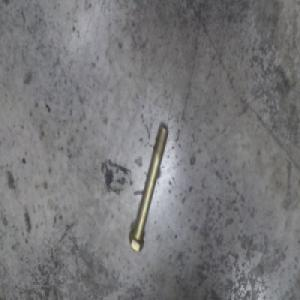Bolt: (127, 111, 168, 251)
